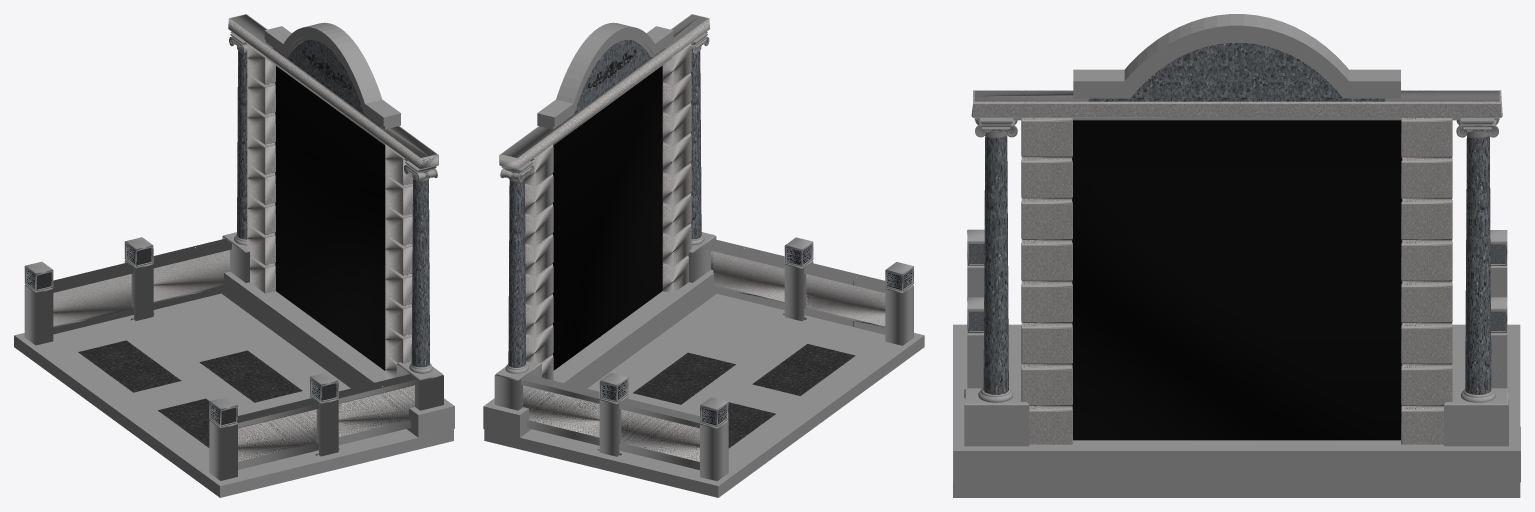
3 views of the same model, side by side, from view 1: azimuth 30°, elevation 25°; view 2: azimuth 150°, elevation 25°; view 3: azimuth 270°, elevation 25° (orthographic). The views are drawn at different scales.
Visible parts, largest first — view 1: object 1, object 4, object 2, object 3, Obj3d66-7600282-61-240, Obj3d66-7600282-84-372, Obj3d66-7600282-162-970, Obj3d66-7600282-156-141, Obj3d66-7600282-78-462, Obj3d66-7600282-67-907, Obj3d66-7600282-94-767, Obj3d66-7600282-54-567 (+29 smaller); view 2: object 1, object 4, object 2, object 3, Obj3d66-7600282-80-151, Obj3d66-7600282-66-634, Obj3d66-7600282-156-141, Obj3d66-7600282-160-295, Obj3d66-7600282-72-655, Obj3d66-7600282-73-56, Obj3d66-7600282-94-767, Obj3d66-7600282-54-567 (+29 smaller); view 3: object 4, object 1, object 2, object 3, Obj3d66-7600282-43-867.001, Obj3d66-7600282-43-867.002, Obj3d66-7600282-135-733, Obj3d66-7600282-120-692, Obj3d66-7600282-110-284, Obj3d66-7600282-116-305, Obj3d66-7600282-118-827, Obj3d66-7600282-114-396 (+14 smaller).
Boxes of the visible parts, x1,y1,x2,y2 form: object 1: [14, 22, 454, 497]; object 4: [275, 66, 385, 370]; object 2: [237, 39, 429, 367]; object 3: [228, 14, 438, 169]; Obj3d66-7600282-61-240: [53, 274, 131, 326]; Obj3d66-7600282-84-372: [238, 409, 316, 461]; Obj3d66-7600282-162-970: [78, 340, 181, 392]; Obj3d66-7600282-156-141: [199, 350, 302, 402]; Obj3d66-7600282-78-462: [338, 385, 414, 436]; Obj3d66-7600282-67-907: [153, 250, 229, 301]; Obj3d66-7600282-94-767: [24, 284, 53, 345]; Obj3d66-7600282-54-567: [209, 420, 237, 480]; object 1: [483, 22, 924, 497]; object 4: [553, 65, 662, 370]; object 2: [508, 39, 701, 367]; object 3: [499, 14, 710, 169]; Obj3d66-7600282-80-151: [806, 274, 885, 326]; Obj3d66-7600282-66-634: [621, 409, 699, 461]; Obj3d66-7600282-156-141: [633, 352, 735, 404]; Obj3d66-7600282-160-295: [752, 344, 855, 395]; Obj3d66-7600282-72-655: [523, 385, 599, 437]; Obj3d66-7600282-73-56: [713, 251, 811, 307]; Obj3d66-7600282-94-767: [700, 420, 728, 481]; Obj3d66-7600282-54-567: [885, 285, 913, 345]; object 4: [1072, 120, 1402, 440]; object 1: [953, 14, 1520, 497]; object 2: [983, 43, 1491, 394]; object 3: [971, 90, 1502, 117]; Obj3d66-7600282-43-867.001: [964, 388, 1029, 446]; Obj3d66-7600282-43-867.002: [1444, 388, 1508, 446]; Obj3d66-7600282-135-733: [974, 91, 1499, 101]; Obj3d66-7600282-120-692: [1021, 323, 1072, 366]; Obj3d66-7600282-110-284: [1401, 323, 1452, 366]; Obj3d66-7600282-116-305: [1021, 281, 1072, 324]; Obj3d66-7600282-118-827: [1021, 240, 1072, 283]; Obj3d66-7600282-114-396: [1401, 240, 1452, 283].
Bounding box in the file's own units: 2.94 × 4.05 × 4.47.
Materials: 5 (3 with a texture image).
